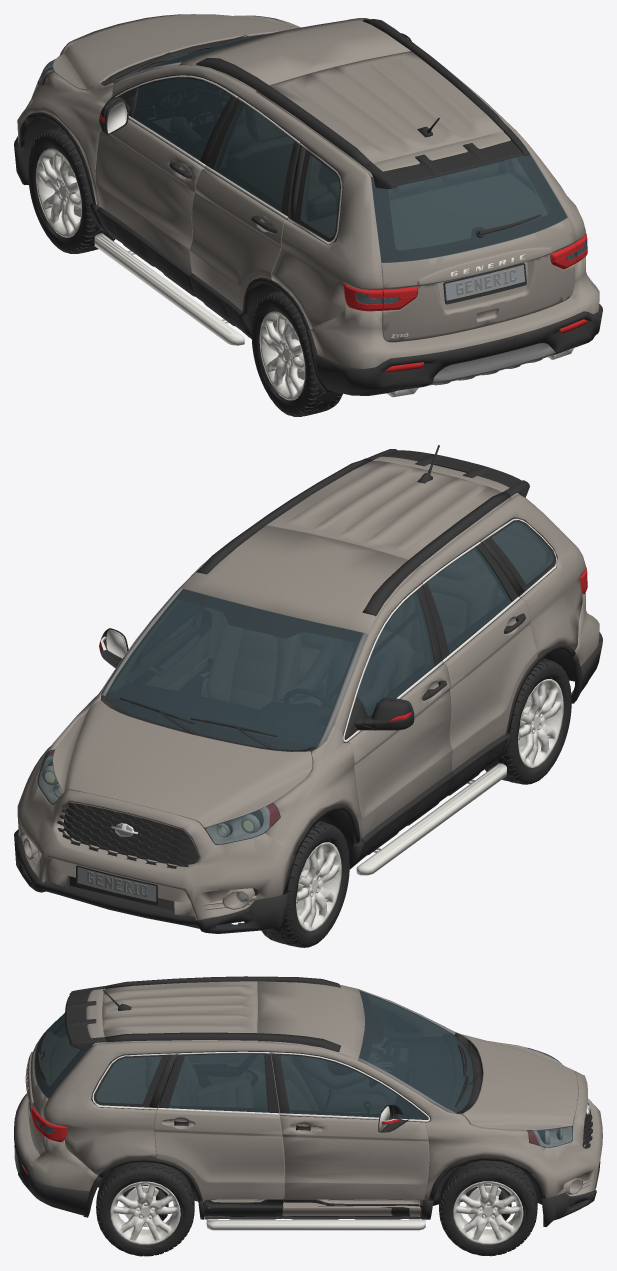
Rendered from suv.glb.
The picture shows the model from 3 angles, top to bottom: view 1: azimuth 30°, elevation 25°; view 2: azimuth 150°, elevation 25°; view 3: azimuth 270°, elevation 25°; orthographic projection. The views are drawn at different scales.
Parts seen in each view (by area): view 1: Exterior, Wheel_RL, Wheel_FL; view 2: Exterior, Wheel_FL, Wheel_RL; view 3: Exterior, Wheel_FR, Wheel_RR.
Part boxes in pixels (x1,y1,x2,y2): Exterior: (14,14,602,397); Wheel_RL: (251,291,342,416); Wheel_FL: (28,127,115,253); Exterior: (14,445,602,933); Wheel_FL: (261,821,349,947); Wheel_RL: (485,658,571,784); Exterior: (14,976,602,1230); Wheel_FR: (439,1160,537,1256); Wheel_RR: (96,1162,194,1256).
Size of the model in its own units: 2.1 by 1.86 by 4.52.
